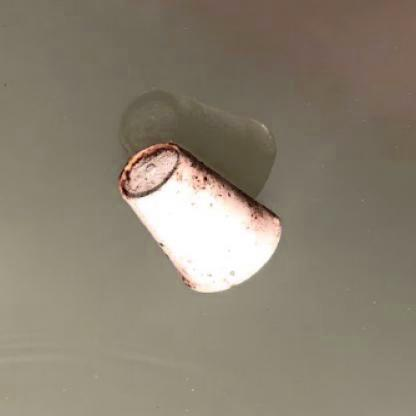Plastic: (116, 139, 285, 294)
